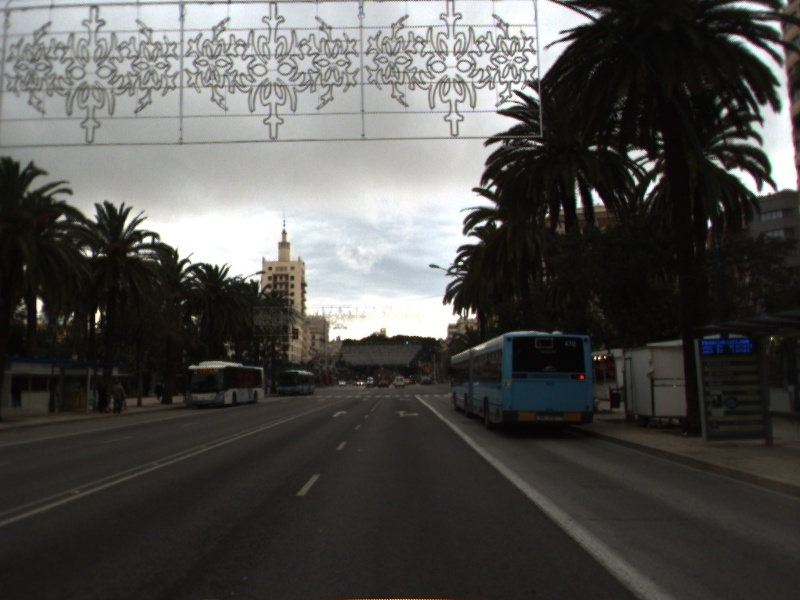STRAIGHT: (330, 409, 349, 419)
STRAIGHT_RIGHT: (393, 408, 421, 419)
